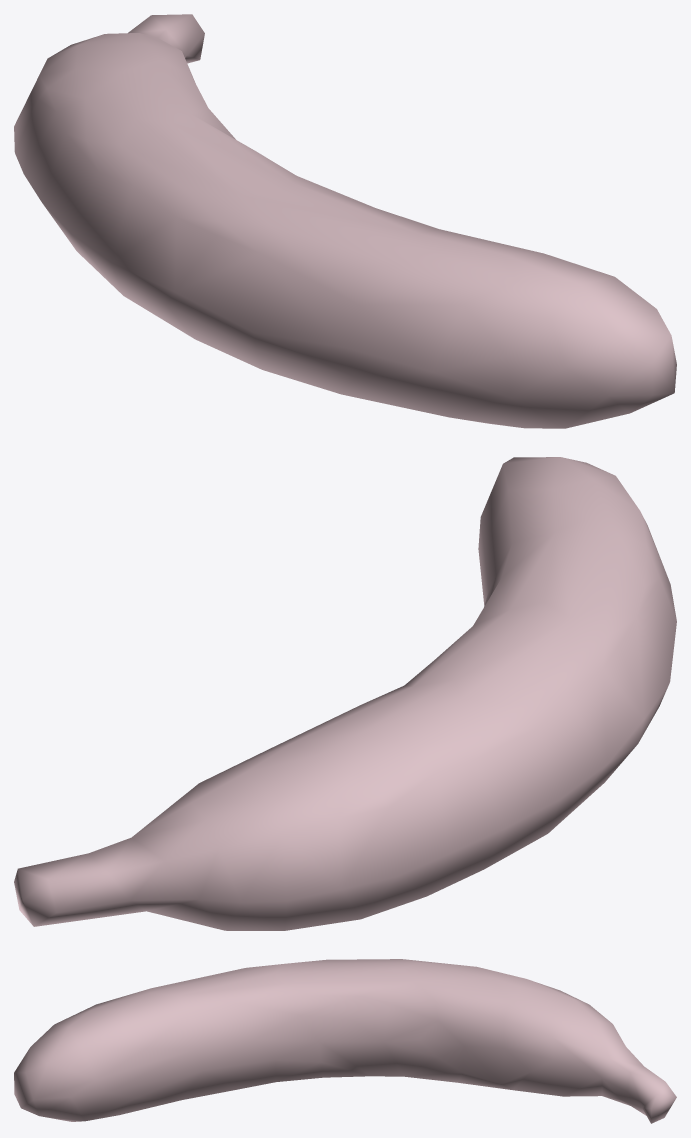
The model's file is banana.fbx.
3 views of the same model, one above another, from view 1: azimuth 30°, elevation 25°; view 2: azimuth 150°, elevation 25°; view 3: azimuth 270°, elevation 25° (orthographic). The views are drawn at different scales.
Visible parts, largest first — view 1: mesh0_banana01a_LOD0; view 2: mesh0_banana01a_LOD0; view 3: mesh0_banana01a_LOD0.
Boxes of the visible parts, x1=… form: mesh0_banana01a_LOD0: x1=14, y1=14, x2=676, y2=428; mesh0_banana01a_LOD0: x1=14, y1=457, x2=676, y2=930; mesh0_banana01a_LOD0: x1=14, y1=959, x2=676, y2=1123.
Size of what is drawn, in the model's own units: 8.01 by 3.68 by 21.53.
